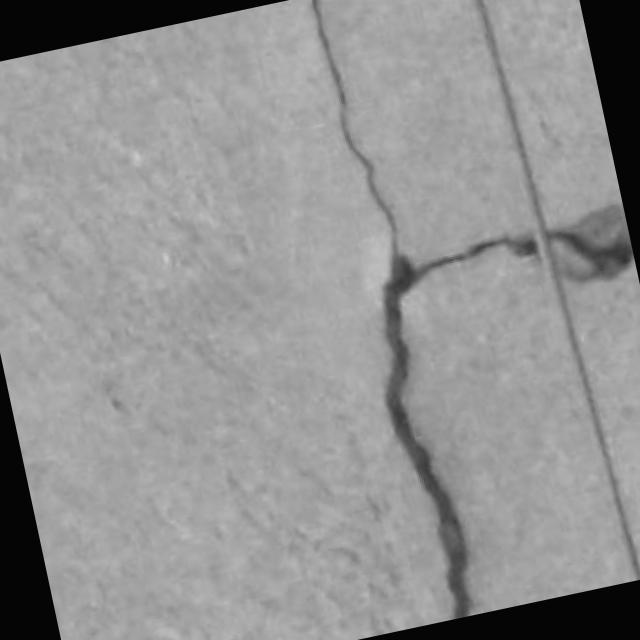crack: (312, 0, 539, 618)
